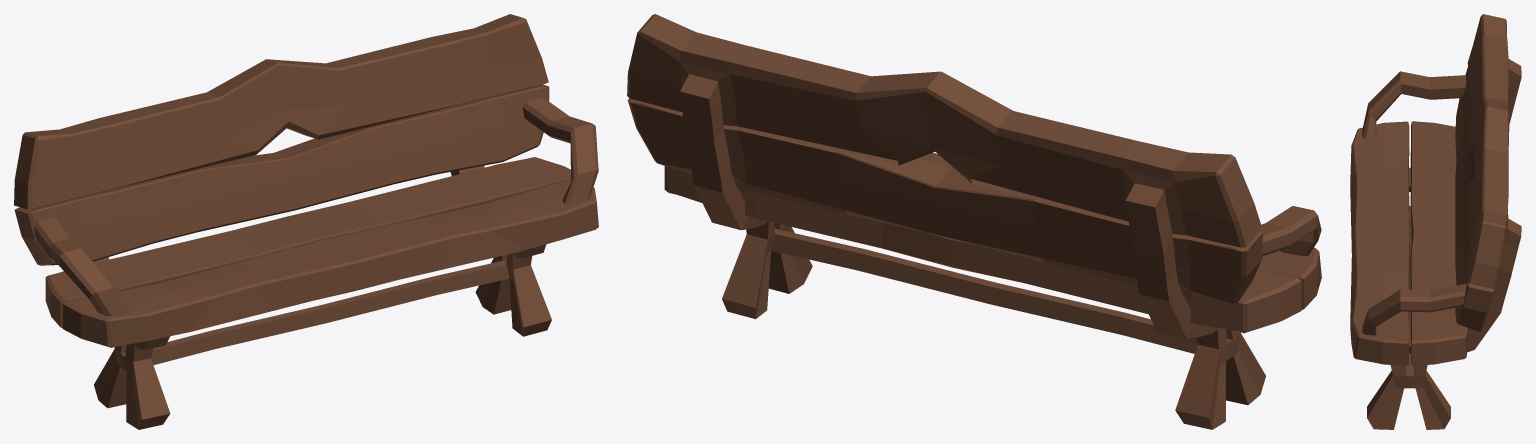
The model's file is WoodenBench_03.fbx.
The picture shows the model from 3 angles, left to right: view 1: azimuth 30°, elevation 25°; view 2: azimuth 150°, elevation 25°; view 3: azimuth 270°, elevation 25°; orthographic projection. The views are drawn at different scales.
Visible parts, largest first — view 1: WoodenBench_03; view 2: WoodenBench_03; view 3: WoodenBench_03.
Part boxes in pixels (x1,y1,x2,y2): WoodenBench_03: (14,14,598,429); WoodenBench_03: (627,14,1321,429); WoodenBench_03: (1350,14,1521,429).
Bounding box in the file's own units: 292 × 141 × 92.6.
Materials: 1 (1 with a texture image).
